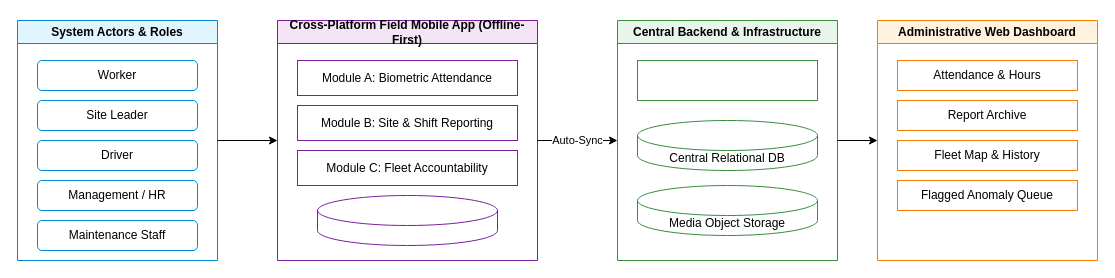
Some shapes in this 1115 by 278 pixel diagram are drawn without their labels. The shapes that lost their labels are listed below. From the top down, each one's centre as x and y in pixels, then its label:
At point (727, 80): "Backend REST API & Sync Engine".
At point (407, 220): "Local Storage & Sync Queue".
